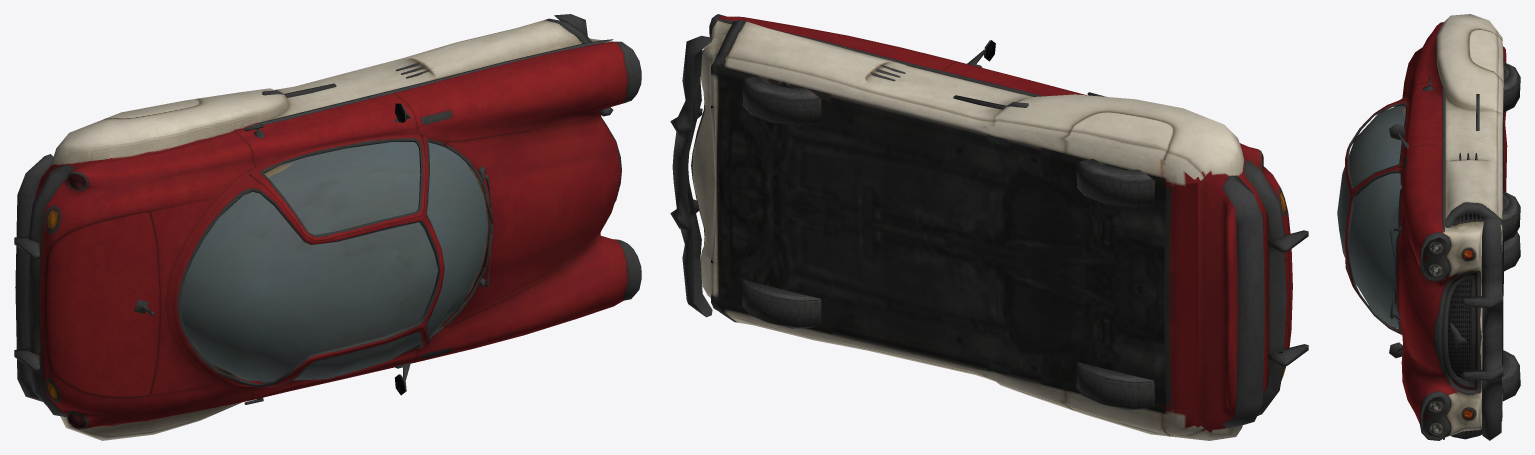
File: nt_2020_car_02_LOD1.obj
The picture shows the model from 3 angles, left to right: view 1: azimuth 30°, elevation 25°; view 2: azimuth 150°, elevation 25°; view 3: azimuth 270°, elevation 25°; orthographic projection. The views are drawn at different scales.
Parts seen in each view (by area): view 1: mtl_nt_2020_car_02_exterior, com_glass_clear, mtl_nt_2020_car_02_interior; view 2: mtl_nt_2020_car_02_exterior; view 3: mtl_nt_2020_car_02_exterior, com_glass_clear.
Boxes of the visible parts, x1,y1,x2,y2 form: mtl_nt_2020_car_02_exterior: (14,14,641,440); com_glass_clear: (180,142,488,381); mtl_nt_2020_car_02_interior: (192,145,489,376); mtl_nt_2020_car_02_exterior: (670,14,1308,440); mtl_nt_2020_car_02_exterior: (1345,14,1520,440); com_glass_clear: (1337,105,1405,328).
Size of the model in its own units: 504 by 246 by 167.
